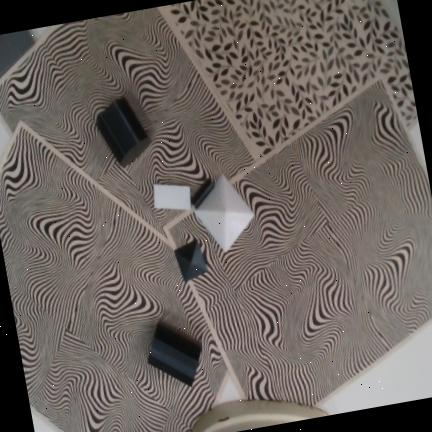Cilindro: (191, 178, 215, 209)
Paralelepipedo: (153, 184, 191, 209)
Piramide: (193, 172, 255, 253), (174, 239, 208, 282)
Prisma_hexagonal: (96, 96, 152, 168), (147, 320, 202, 386)
